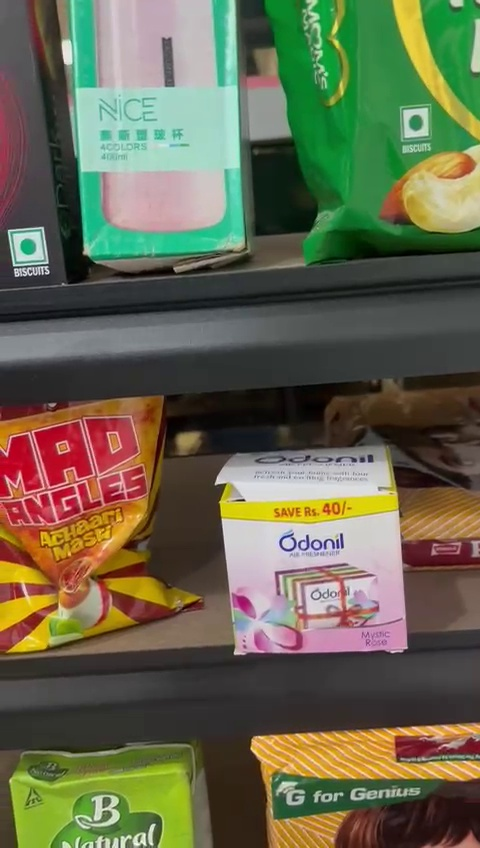Odonil: (220, 452, 410, 655)
